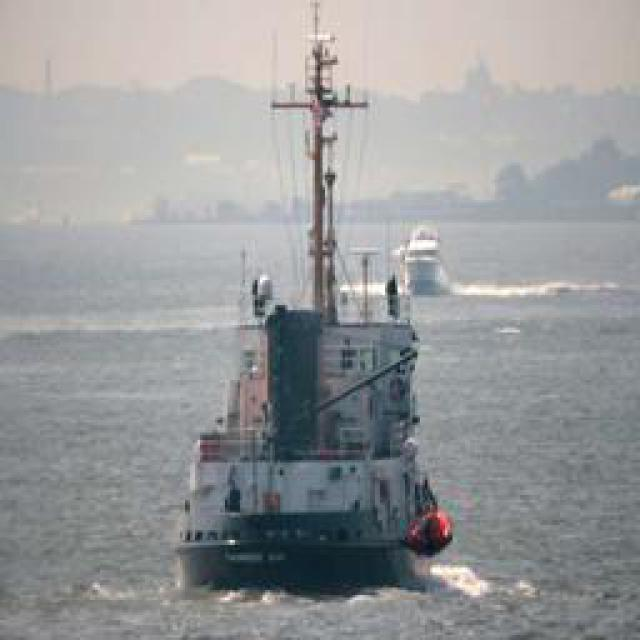Ship: (172, 124, 452, 599)
